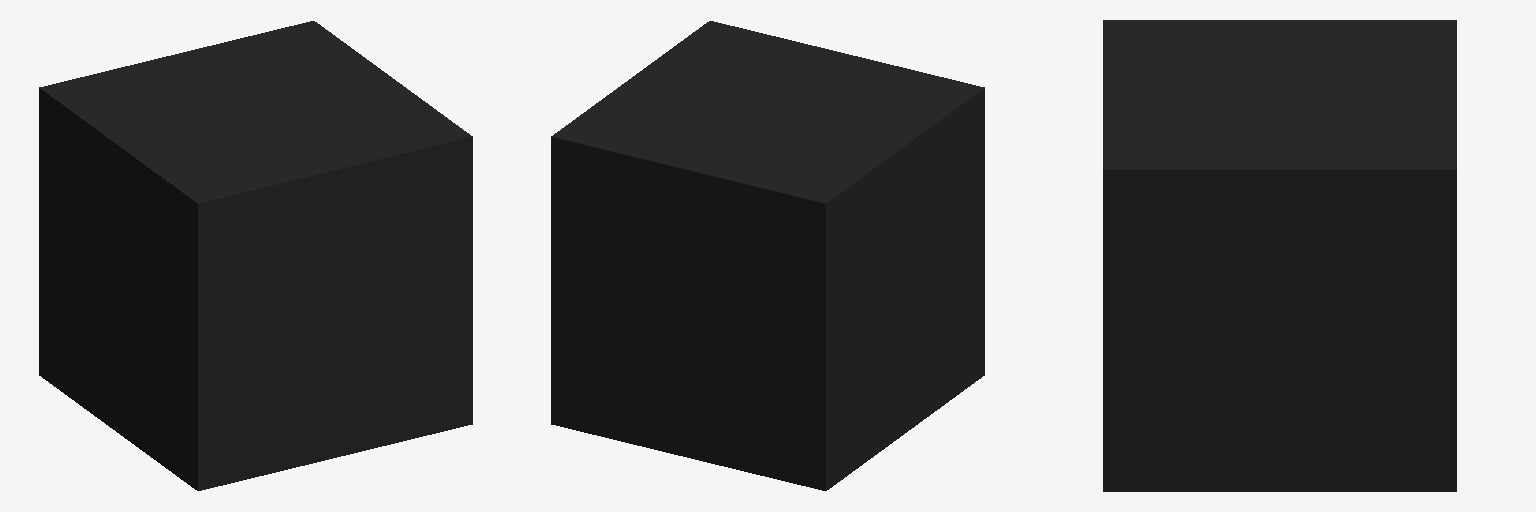
URDF robot description (cv_camera):
<?xml version="1.0"?>
<robot name="cv_camera">
<link name="world"/> 
<!-- camera joint and dummy link (if we use dummy link we will have to specify static true otherwise we can just use world)-->
<joint name="camera_joint" type="fixed">
    <parent link="world"/>
    <child link="camera_link"/>
    <origin xyz="0 0 10.0" rpy="0 0 0"/>
</joint>
<material name="dark_rubber"> <color rgba="0.18 0.18 0.18 1"/></material>
<!-- Camera Link -->
<link name="camera_link">
  <visual>
    <geometry>
      <box size="0.03 0.03 0.03"/>
    </geometry>
    <material name="dark_rubber"/>
  </visual>
  <collision>
    <geometry>
      <box size="0.03 0.03 0.03"/>
    </geometry>
  </collision>
  <inertial>
    <mass value="0.1"/>
    <inertia ixx="0.000015" ixy="0.0" ixz="0.0" iyy="0.000015" iyz="0.0" izz="0.000015"/>
  </inertial>
</link>

<!-- Optical Link & Joint for ROS standard orientation (X-Right, Y-Down, Z-Forward) -->
<link name="camera_link_optical"/>
<joint name="camera_optical_joint" type="fixed">
  <parent link="camera_link"/>
  <child link="camera_link_optical"/>
  <origin xyz="0 0 0" rpy="-1.570796 0 -1.570796"/>
</joint>

<!-- Gazebo Harmonic Sensor Configuration -->
<gazebo reference="camera_link">
  <sensor type="camera" name="rgb_camera">
    <update_rate>30.0</update_rate>
    <topic>camera/image</topic> <!-- The Gazebo Transport Topic Name -->
    <camera name="head">
      <horizontal_fov>1.047</horizontal_fov>
      <image>
        <width>640</width>
        <height>480</height>
        <format>R8G8B8</format>
      </image>
      <clip>
        <near>0.05</near>
        <far>300</far>
      </clip>
    </camera>
  </sensor>
</gazebo>
</robot>

--- Facts derived from the render (not from the file) ---
Views: 3 orthographic renders of the robot side by side, from view 1: azimuth 30°, elevation 25°; view 2: azimuth 150°, elevation 25°; view 3: azimuth 270°, elevation 25°.
Robot: cv_camera — 3 links, 2 joints (2 fixed); root link world; default pose: all joints at 0.
Links seen in each view (by area): view 1: camera_link; view 2: camera_link; view 3: camera_link.
Link boxes in pixels (x1,y1,x2,y2): camera_link: (39,21,472,490); camera_link: (551,21,984,490); camera_link: (1103,20,1456,491).
Bounding box of the posed robot: 0.03 × 0.03 × 0.03 m (x, y, z).
Geometry: primitives only (box / cylinder / sphere), no mesh files.
